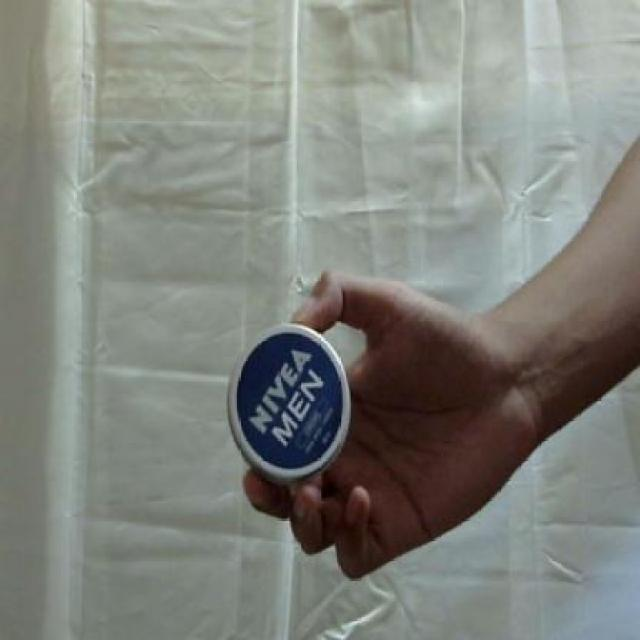Metal: (226, 323, 351, 484)
